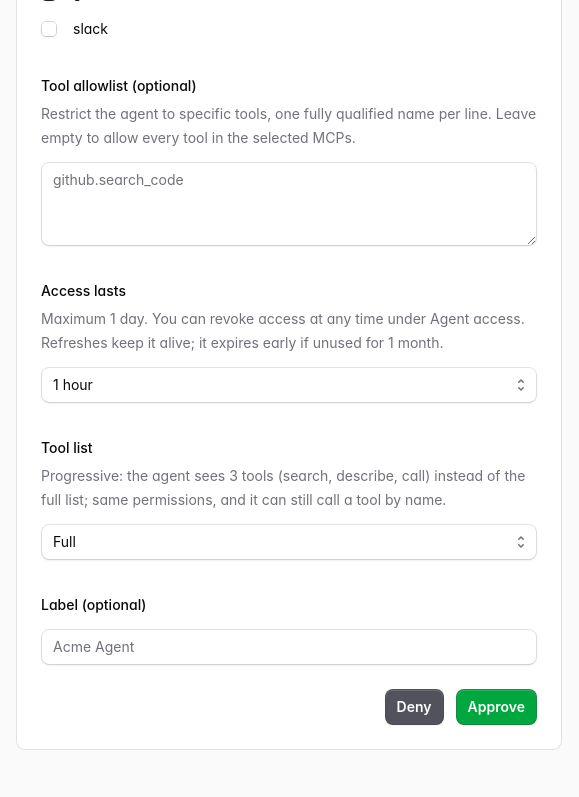
OAuthConsent › refuses to navigate to a disallowed redirect_url and shows the host
(page scrolled)
Click the button "Approve" at coordinates (496, 707), box [456, 689, 537, 725]
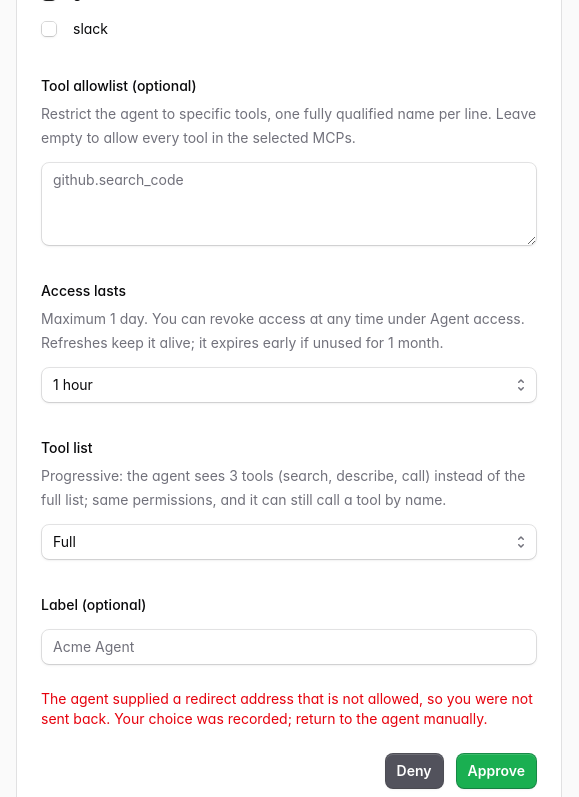
Expected: the text "redirect address that is not allowed" is shown, [41, 690, 533, 727]
